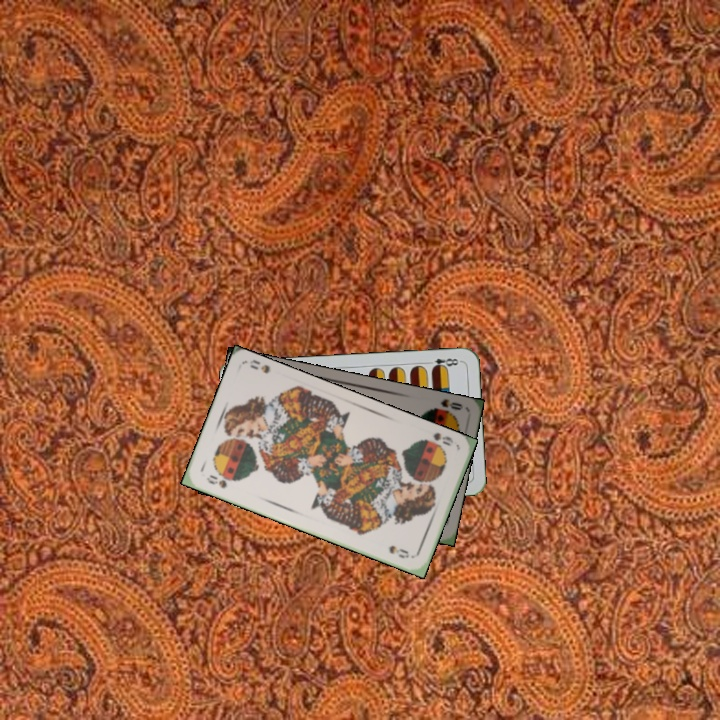E8: (422, 354, 463, 372)
SO: (426, 395, 466, 417), (202, 470, 234, 491), (429, 428, 456, 448)
